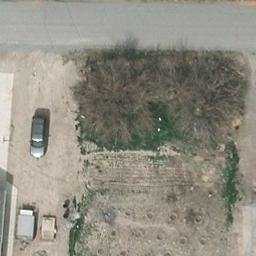car: (29, 115, 48, 160)
